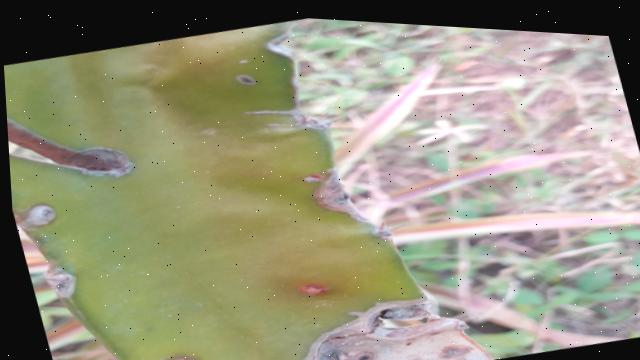stemcanker: (287, 276, 338, 303), (295, 171, 331, 188)
